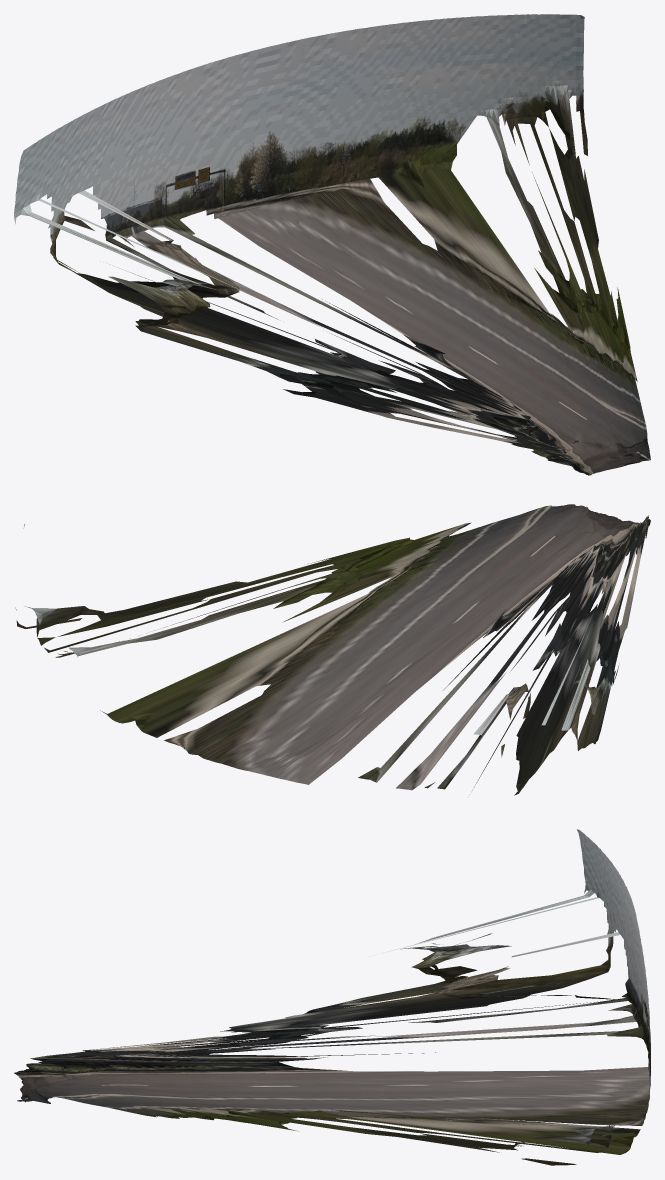
3 renders of one model, top to bottom at view 1: azimuth 30°, elevation 25°; view 2: azimuth 150°, elevation 25°; view 3: azimuth 270°, elevation 25°, orthographic. The views are drawn at different scales.
Visible parts, largest first — view 1: defaultobject; view 2: defaultobject; view 3: defaultobject.
Boxes of the visible parts, bbox=[...] form: defaultobject: bbox=[14, 14, 650, 475]; defaultobject: bbox=[15, 504, 650, 795]; defaultobject: bbox=[14, 829, 650, 1165].
Size of the model in its own units: 41.05 by 11.9 by 44.77.
Materials: 1 (1 with a texture image).
